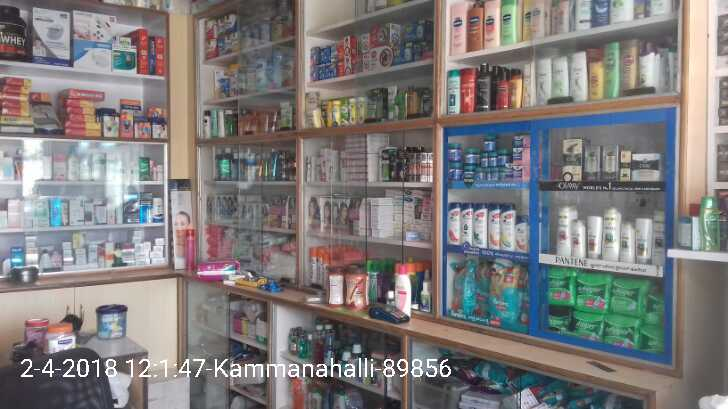vicks: (445, 130, 536, 185)
